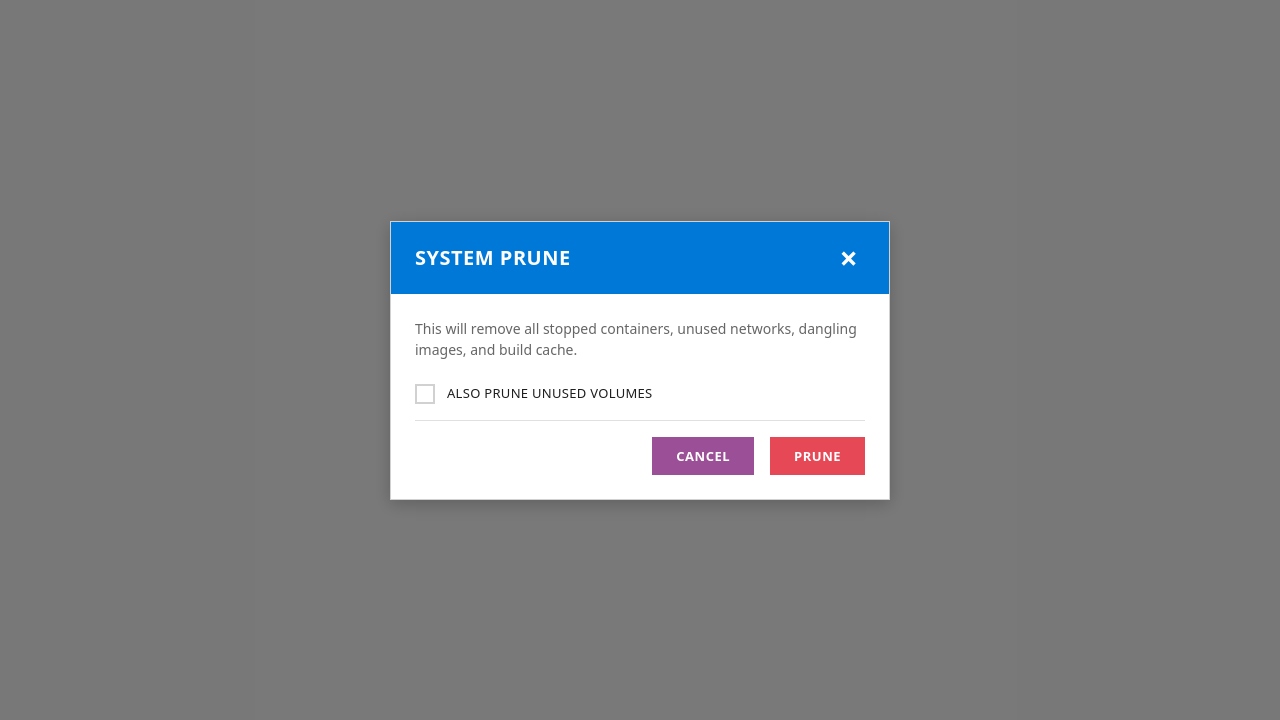
Scenario: SystemPrune › shows results after successful prune
Click the button "Prune": (818, 456) [770, 436, 865, 474]
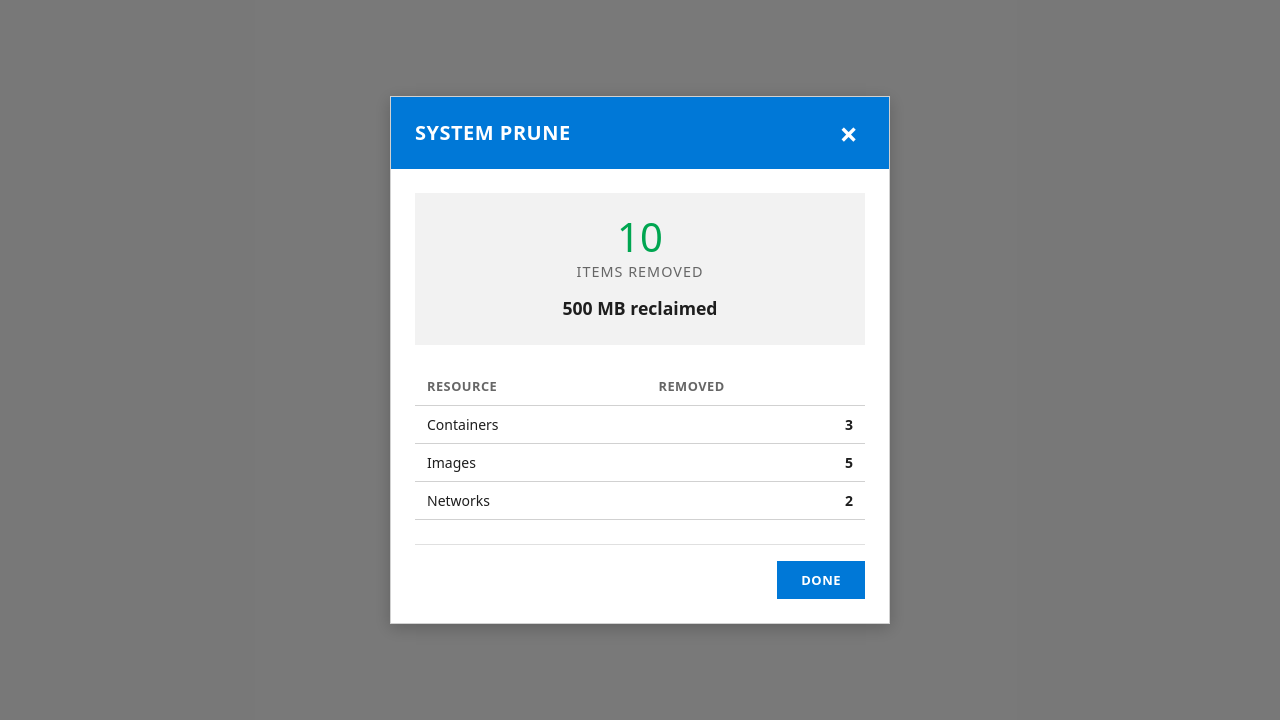
Expected: the text "10" is shown, [617, 217, 663, 257]
Expected: the text "items removed" is shown, [577, 261, 703, 283]
Expected: the text "500 MB reclaimed" is shown, [562, 295, 718, 321]
